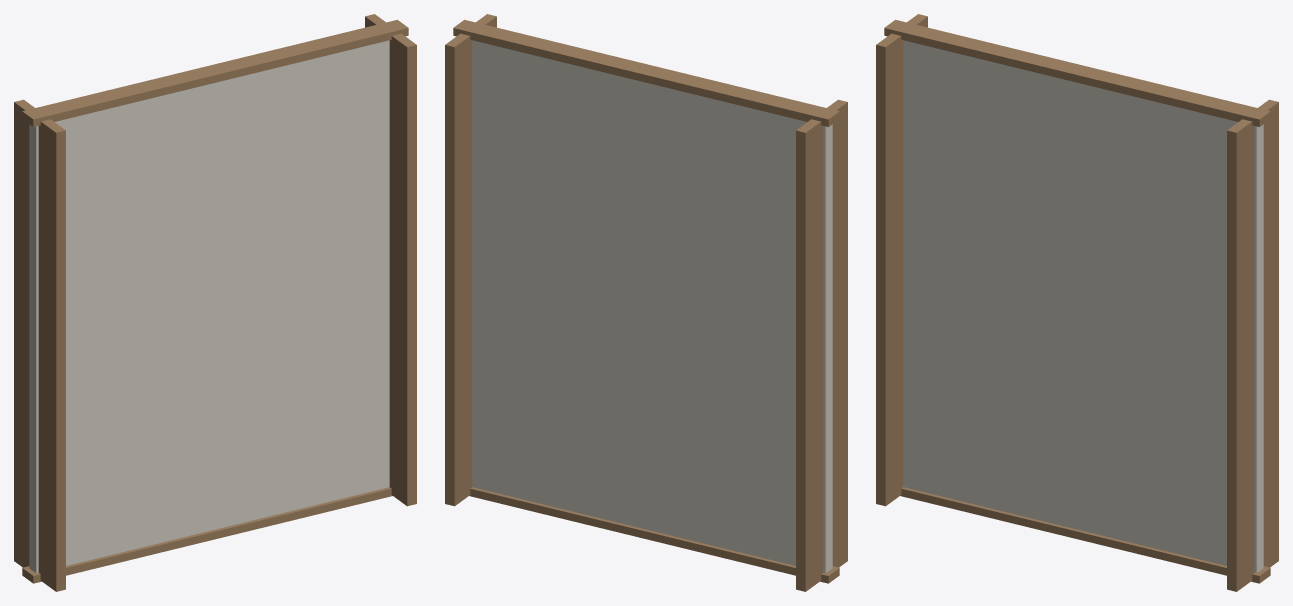
Rendered from partition.glb.
The picture shows the model from 3 angles, left to right: view 1: azimuth 30°, elevation 25°; view 2: azimuth 150°, elevation 25°; view 3: azimuth 330°, elevation 25°; orthographic projection.
Parts seen in each view (by area): view 1: panel, legs, frame; view 2: panel, legs, frame; view 3: panel, legs, frame.
Part boxes in pixels (bbox=[...]): panel: bbox=[29, 40, 389, 573]; legs: bbox=[14, 14, 416, 591]; frame: bbox=[22, 19, 408, 583]; panel: bbox=[472, 40, 832, 573]; legs: bbox=[445, 14, 847, 591]; frame: bbox=[453, 19, 839, 583]; panel: bbox=[903, 40, 1263, 573]; legs: bbox=[876, 14, 1278, 591]; frame: bbox=[884, 19, 1270, 583].
Size of the model in its own units: 1.54 by 1.82 by 0.3.
